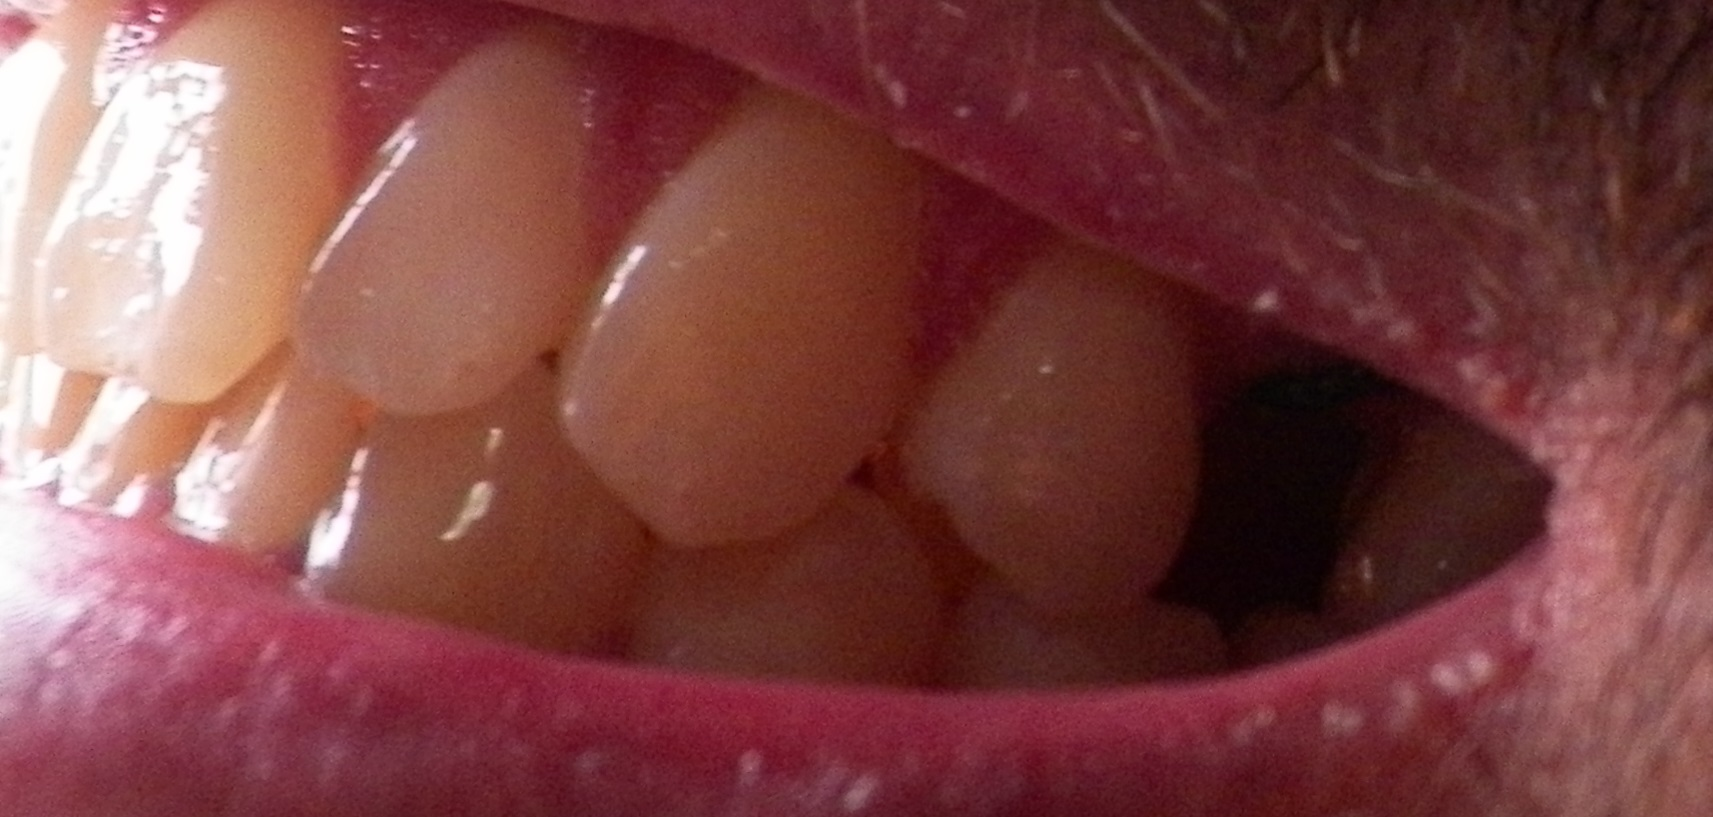boca: (1, 10, 1207, 648)
